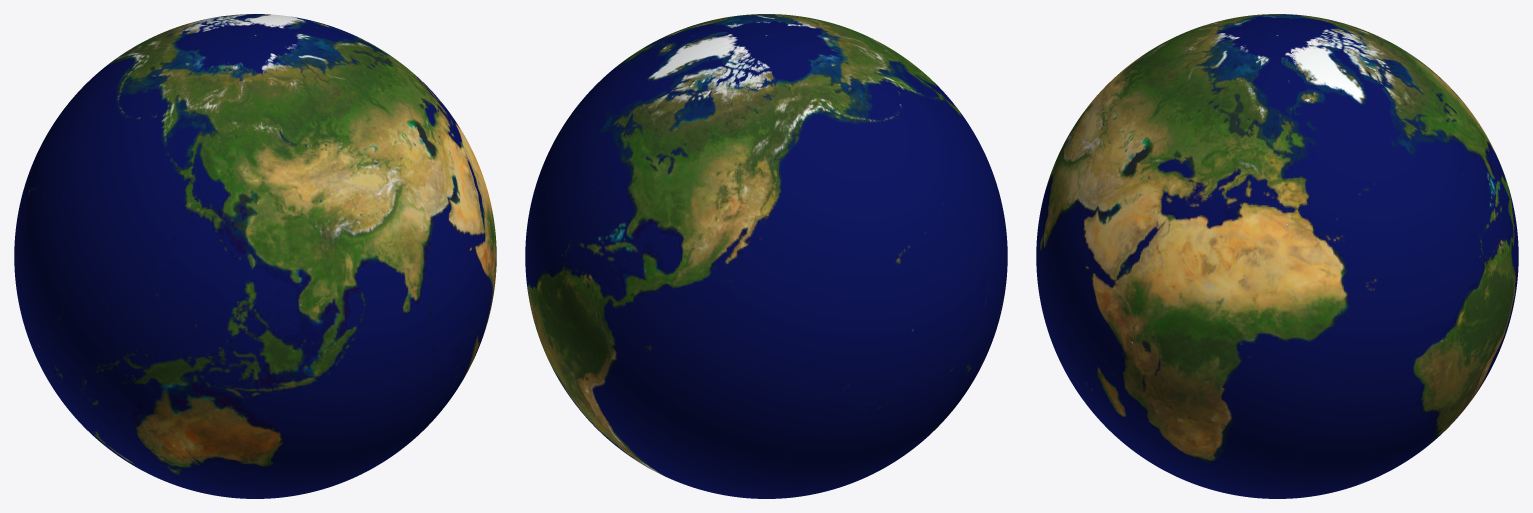
File: earth_0508.glb
3 renders of one model, left to right at view 1: azimuth 30°, elevation 25°; view 2: azimuth 150°, elevation 25°; view 3: azimuth 270°, elevation 25°, orthographic.
Parts seen in each view (by area): view 1: Sphere; view 2: Sphere; view 3: Sphere.
Boxes of the visible parts, <box> form: Sphere: <box>14,14,496,498</box>; Sphere: <box>525,14,1007,498</box>; Sphere: <box>1036,14,1518,498</box>.
Size of the model in its own units: 1.97 by 2 by 1.97.
Materials: 6 (6 with a texture image).
